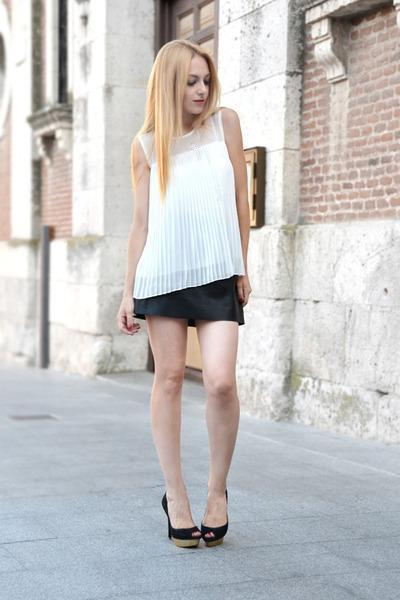shirt: (133, 113, 250, 298)
shoe: (167, 516, 227, 552)
skirt: (133, 276, 246, 326)
